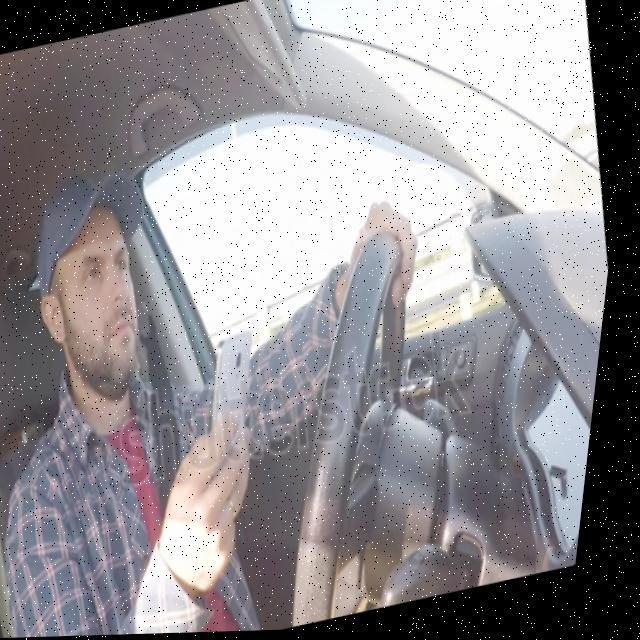PhoneCall: (204, 332, 284, 472)
